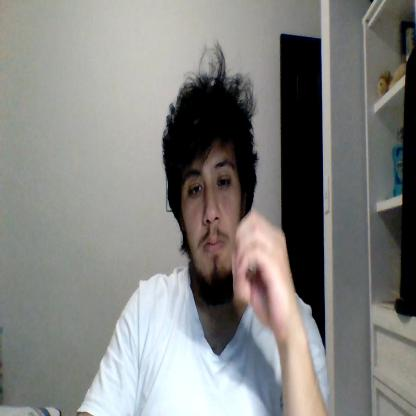O: (232, 210, 297, 331)
